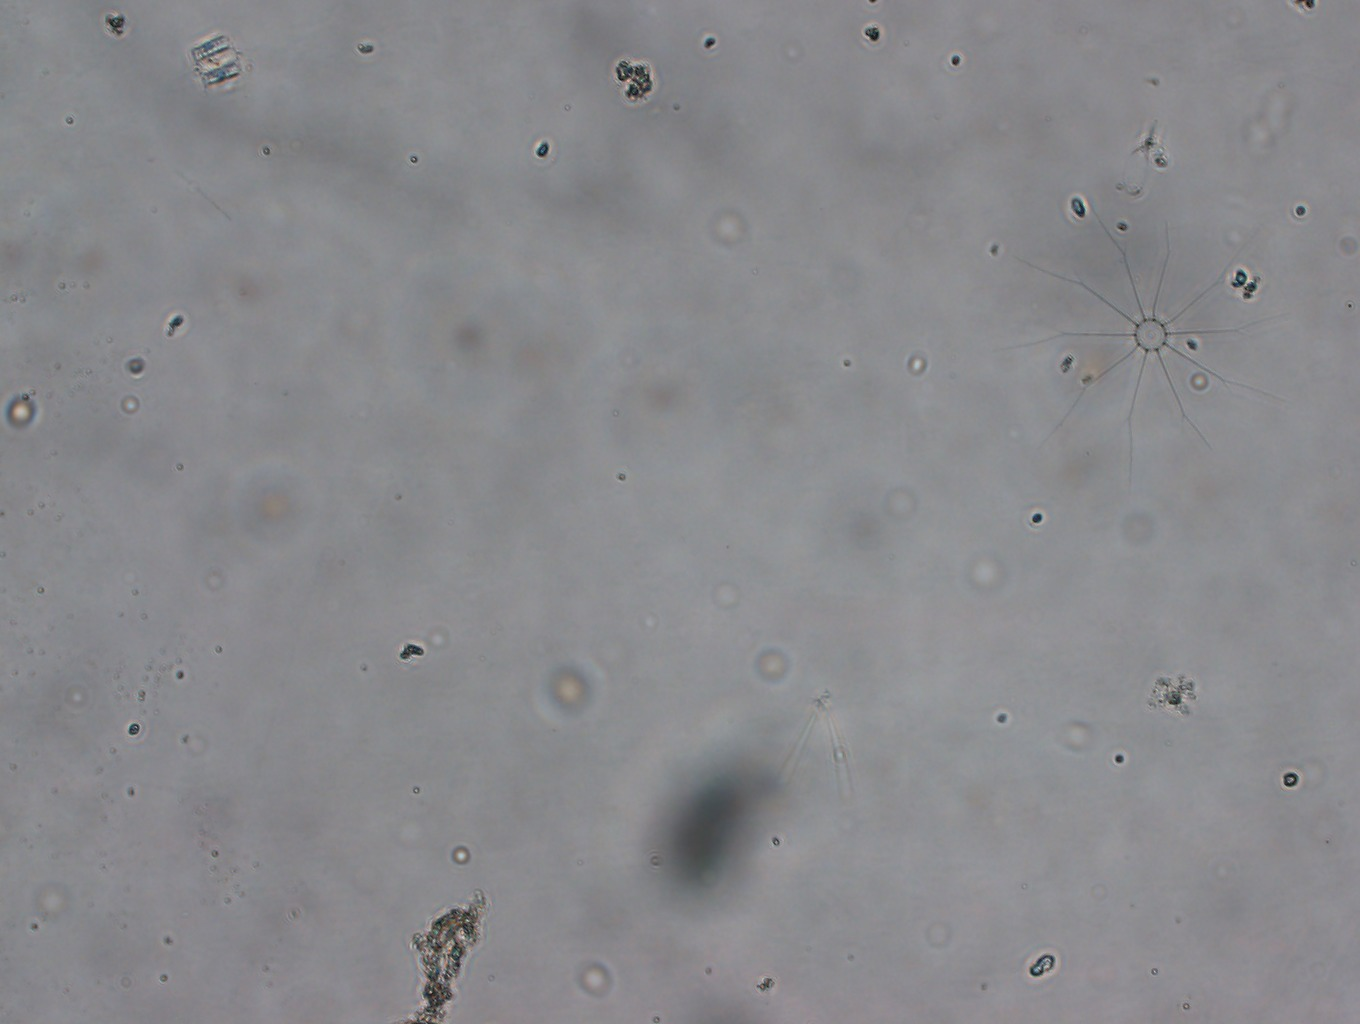bacteriastrum: (1015, 225, 1264, 472)
